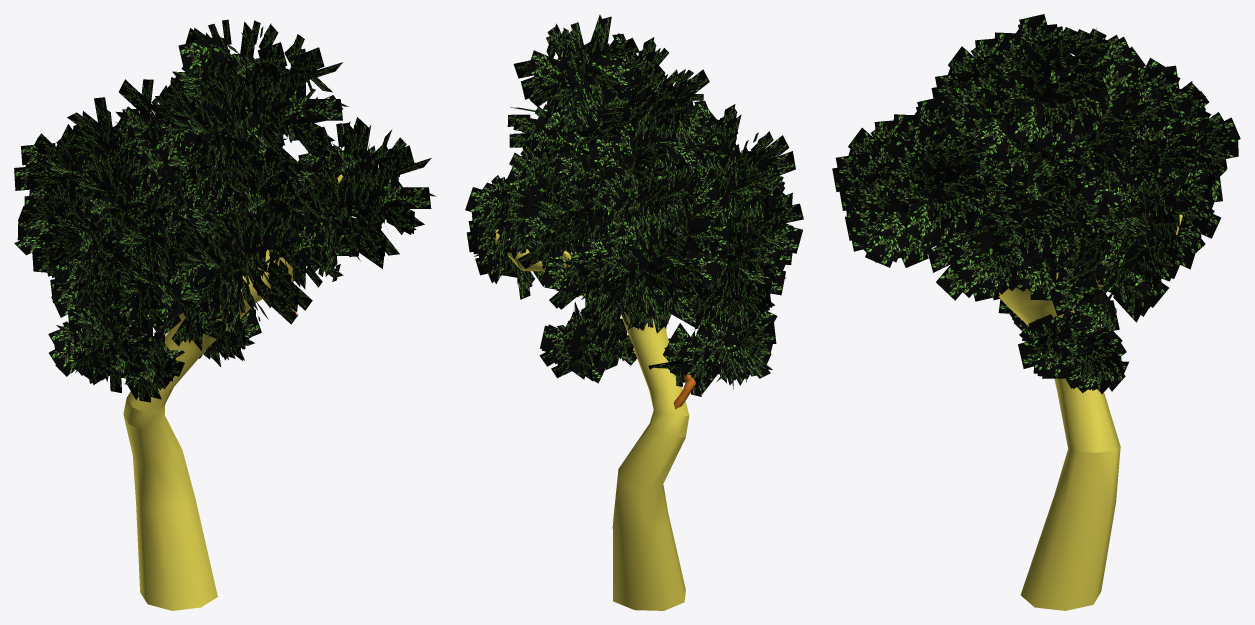
File: 100_Verde_Tronco2.fbx
The picture shows the model from 3 angles, left to right: view 1: azimuth 30°, elevation 25°; view 2: azimuth 150°, elevation 25°; view 3: azimuth 270°, elevation 25°; orthographic projection. The views are drawn at different scales.
Parts seen in each view (by area): view 1: 100_Verde_Tronco2; view 2: 100_Verde_Tronco2; view 3: 100_Verde_Tronco2.
Boxes of the visible parts, left/top/right/bottom form: 100_Verde_Tronco2: left=14, top=19, right=436, bottom=610; 100_Verde_Tronco2: left=465, top=14, right=803, bottom=610; 100_Verde_Tronco2: left=832, top=14, right=1240, bottom=610.
Size of the model in its own units: 562 by 934 by 567.
